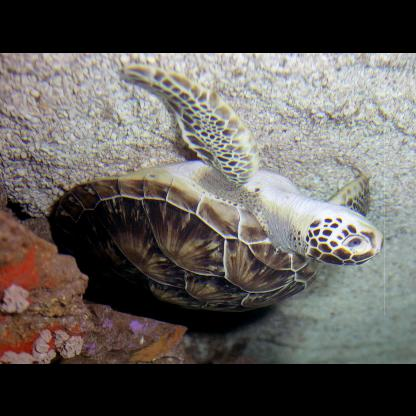turtle: (44, 64, 384, 314)
